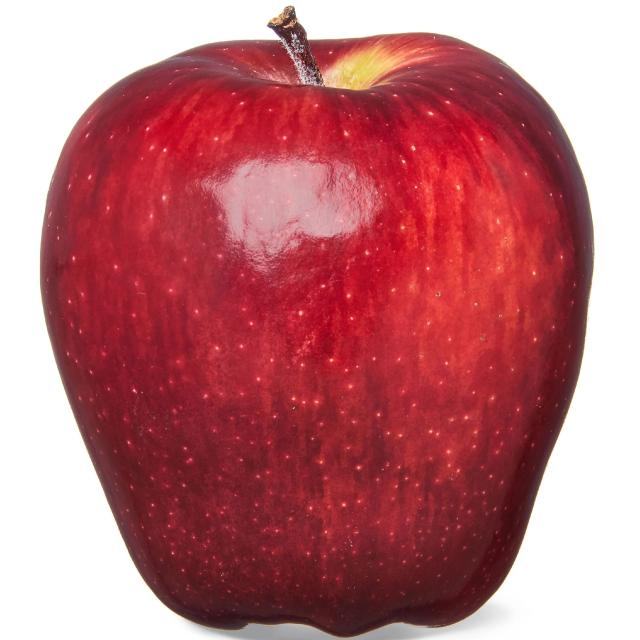100-_ripeness: (49, 37, 578, 626)
